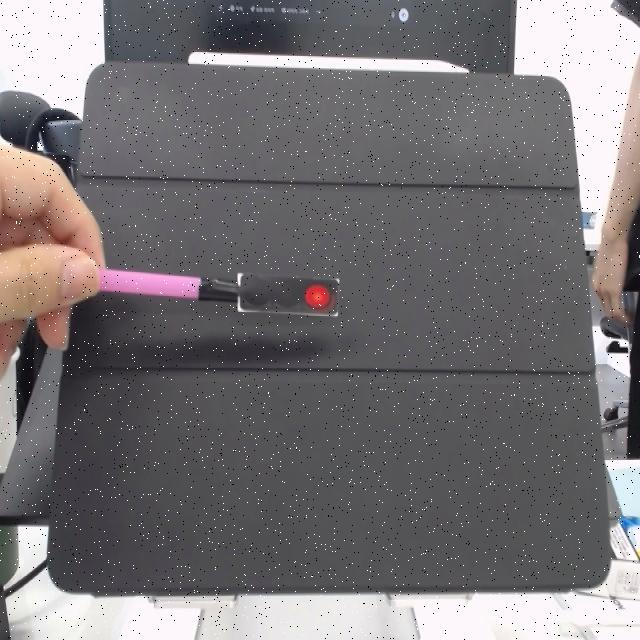traffic light: (237, 275, 343, 320)
